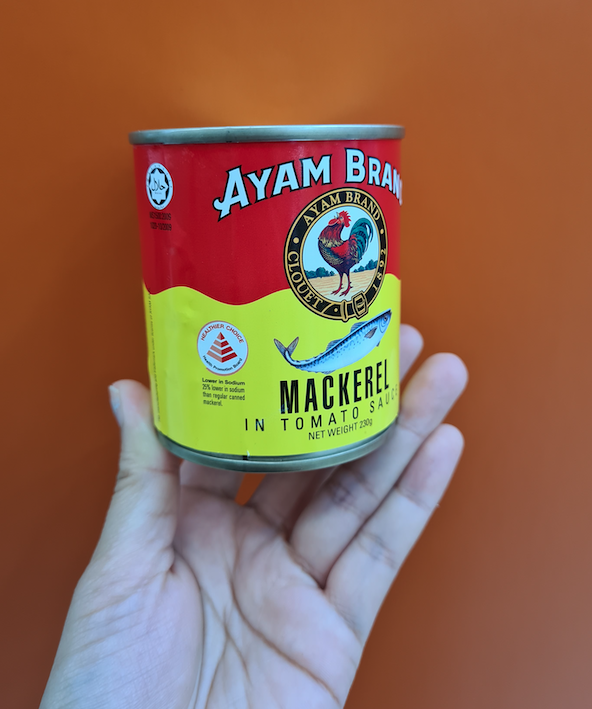Canned_Sardines_and_Mackerel: (140, 133, 402, 443)
